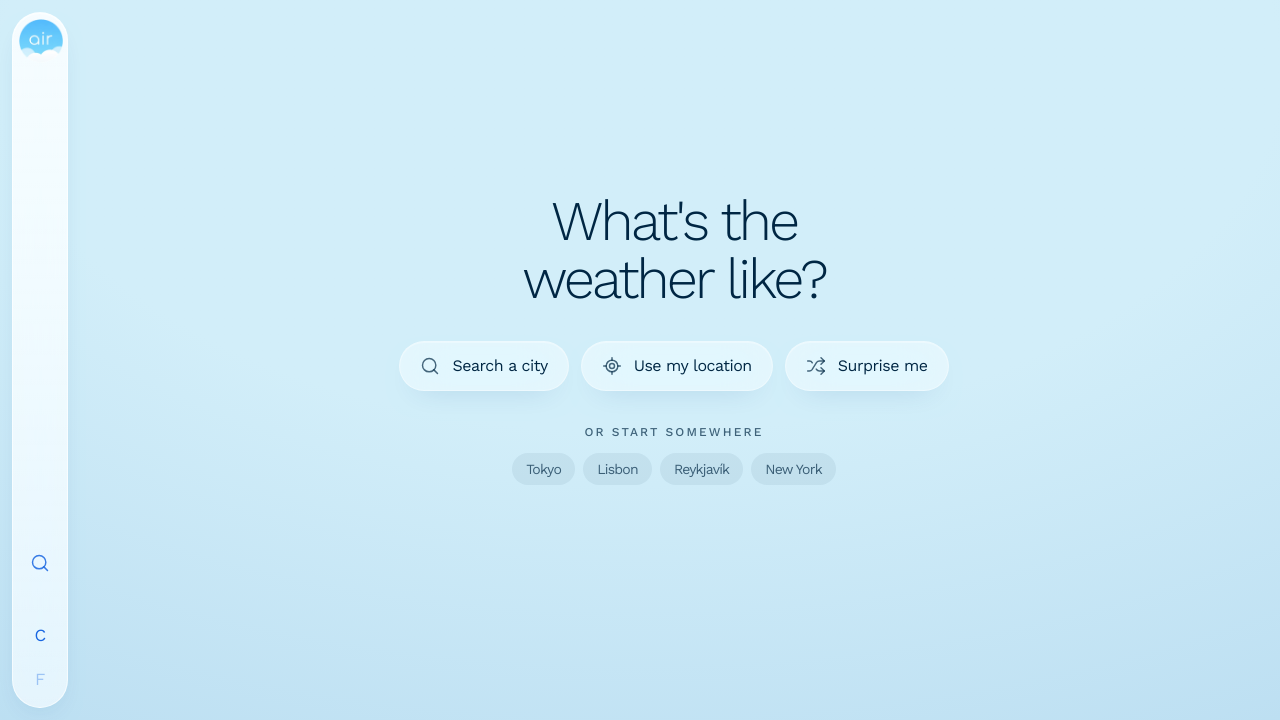
Test: air (integration) › pressing Enter with no matching city is a silent no-op (no fetch, no alert)
Click the button named "Search" at (40, 563), box [18,541,62,585]
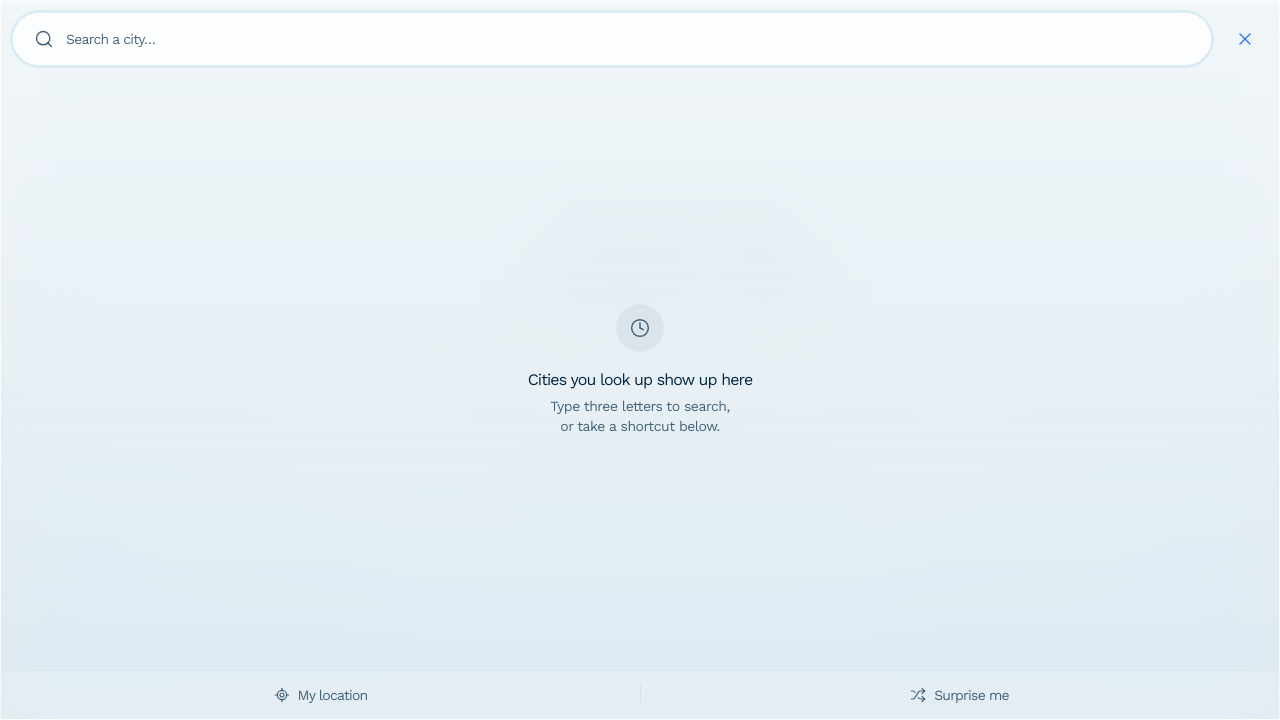
Type "xyzgibberish" into the search field at (628, 39), box [66,29,1190,49]
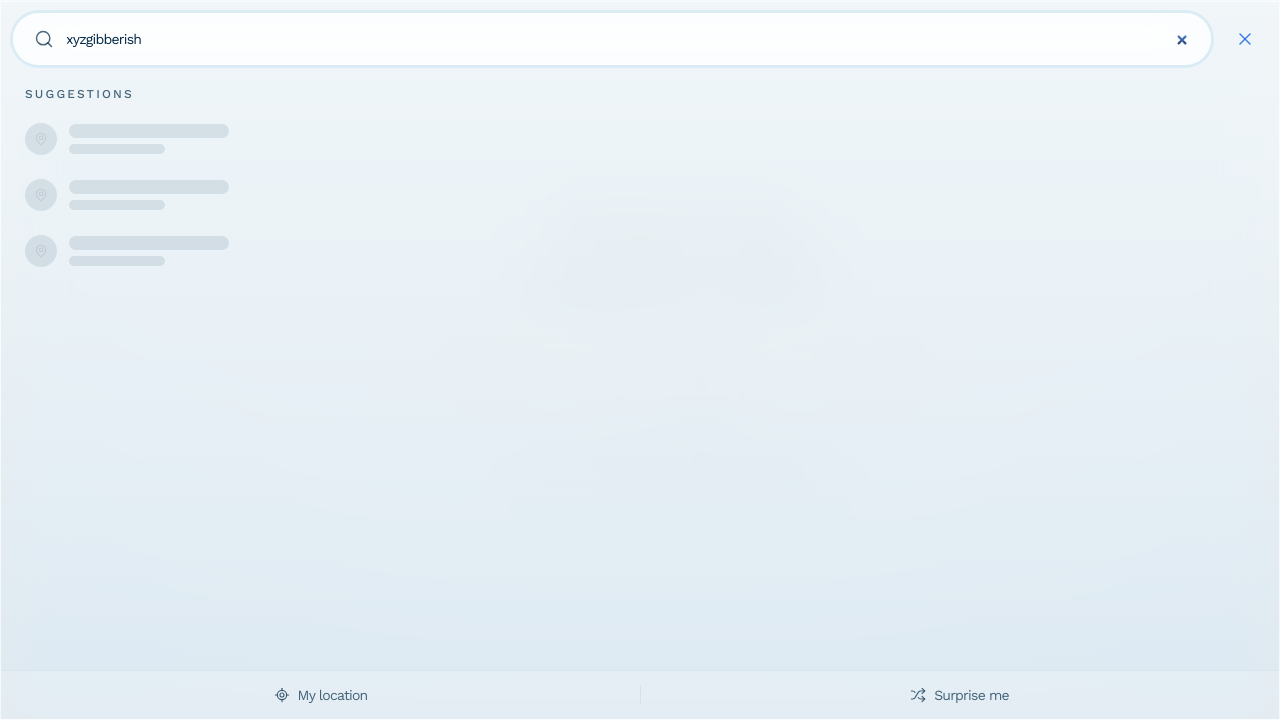
Press Enter
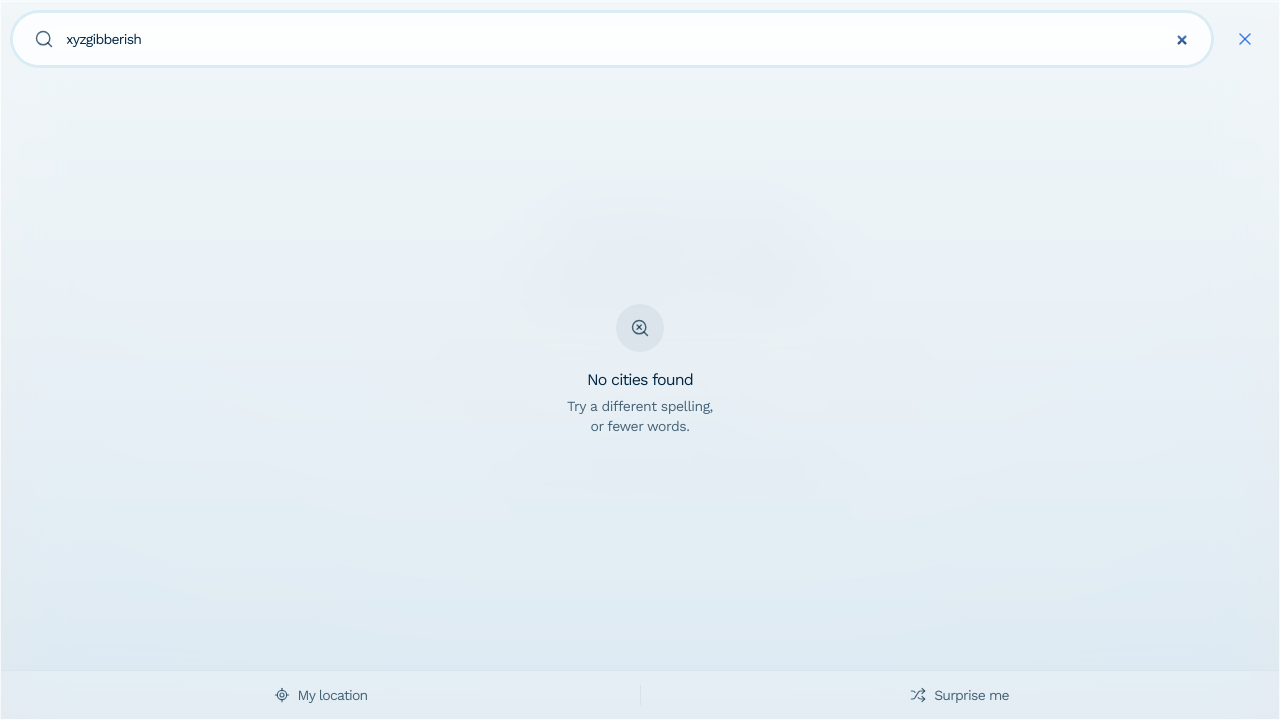
Result: the text "No cities found" is shown at [587,370,693,388]
